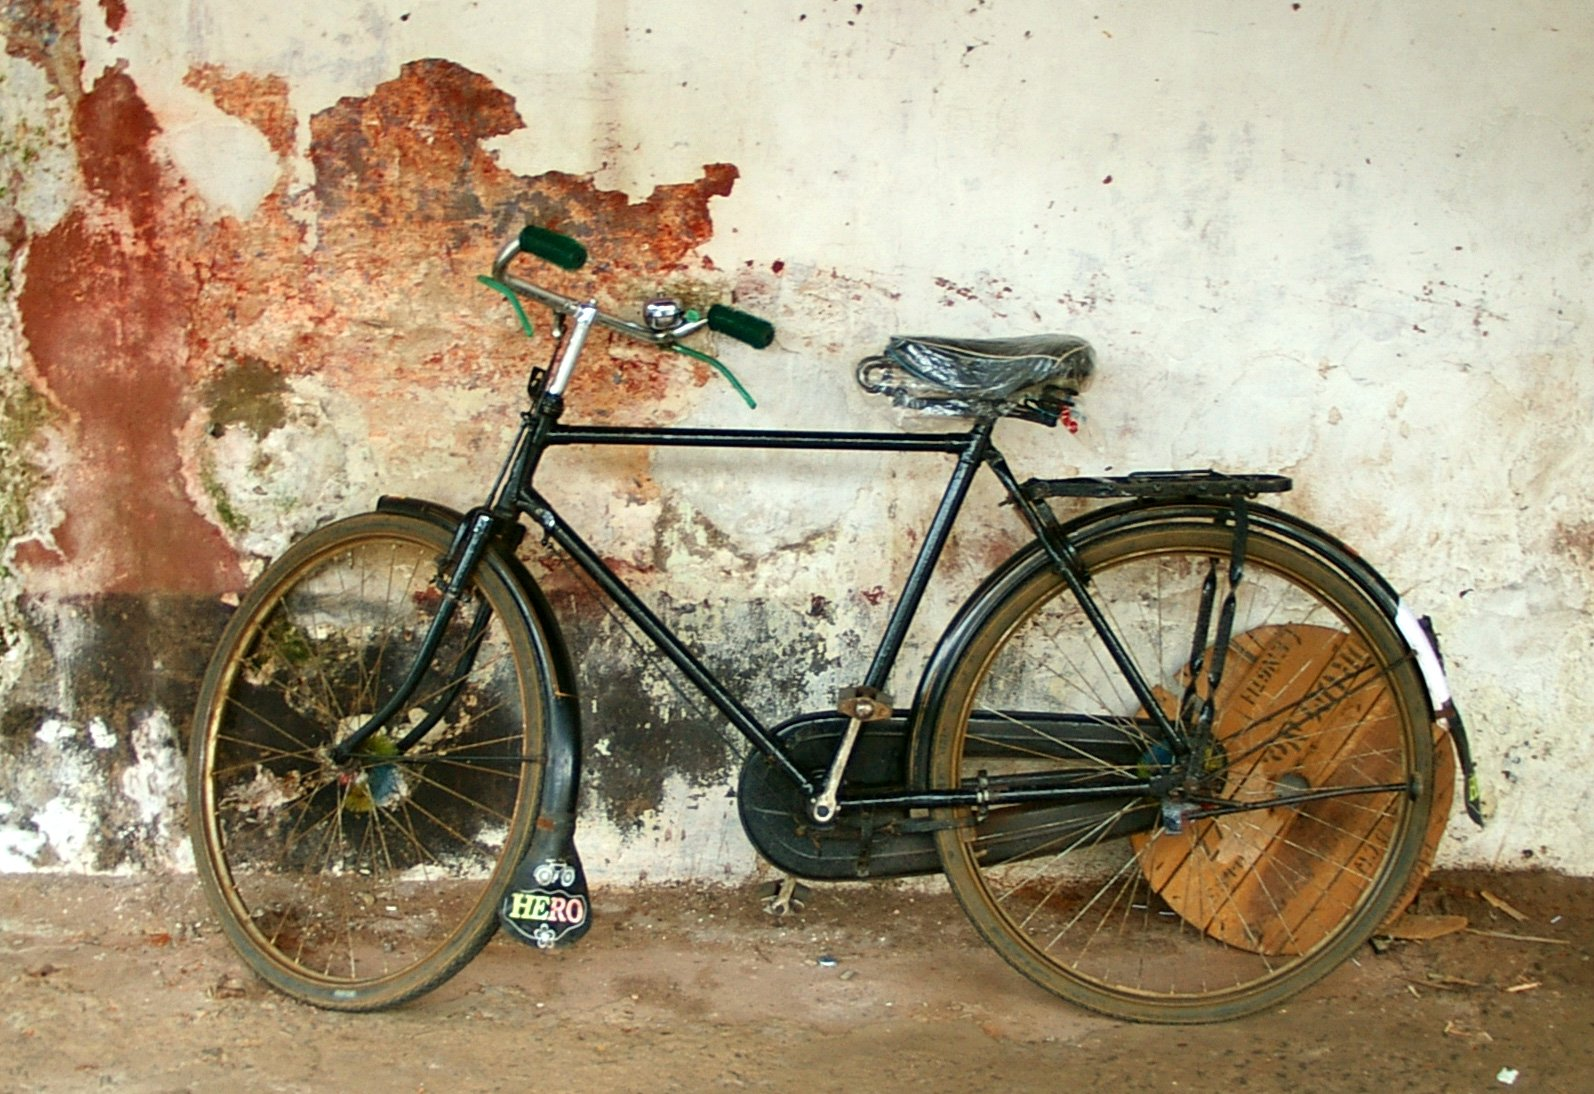Bicycle: (1, 1, 1593, 1069)
